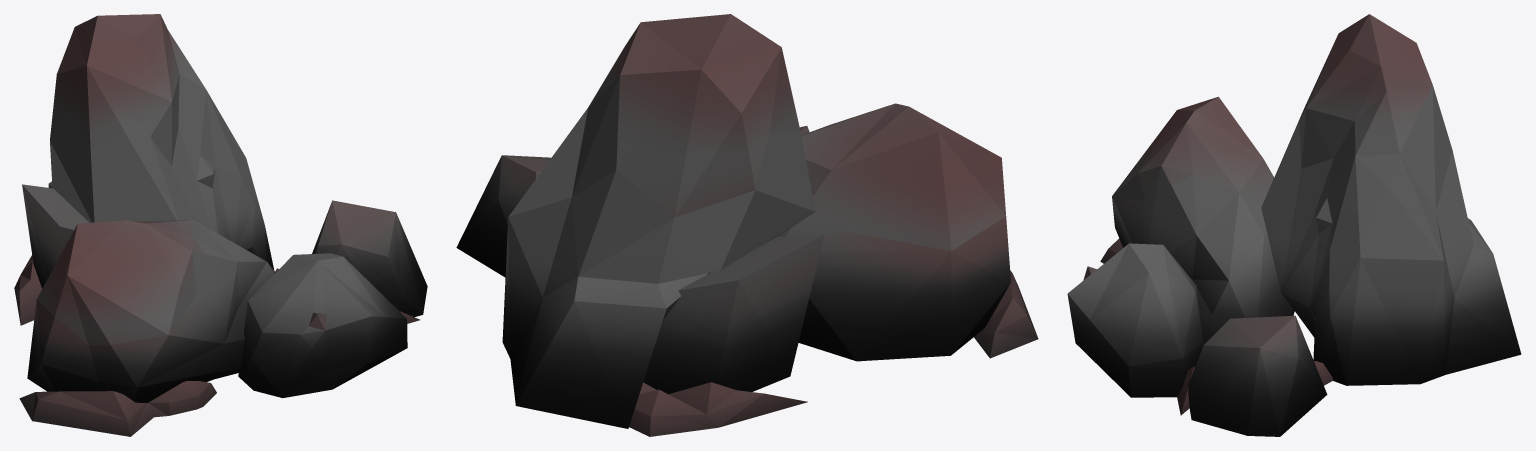
The model's file is Terrain_Volcano_Rock_2.fbx.
3 views of the same model, side by side, from view 1: azimuth 30°, elevation 25°; view 2: azimuth 150°, elevation 25°; view 3: azimuth 270°, elevation 25° (orthographic). The views are drawn at different scales.
Parts seen in each view (by area): view 1: wall_obstacle_001_A; view 2: wall_obstacle_001_A; view 3: wall_obstacle_001_A.
Part boxes in pixels (box(x1,y1,x2,y2)): wall_obstacle_001_A: box(14, 14, 427, 436); wall_obstacle_001_A: box(456, 14, 1038, 436); wall_obstacle_001_A: box(1067, 14, 1521, 436).
Bounding box in the file's own units: 824 × 545 × 754.
1 material, 1 textured.
